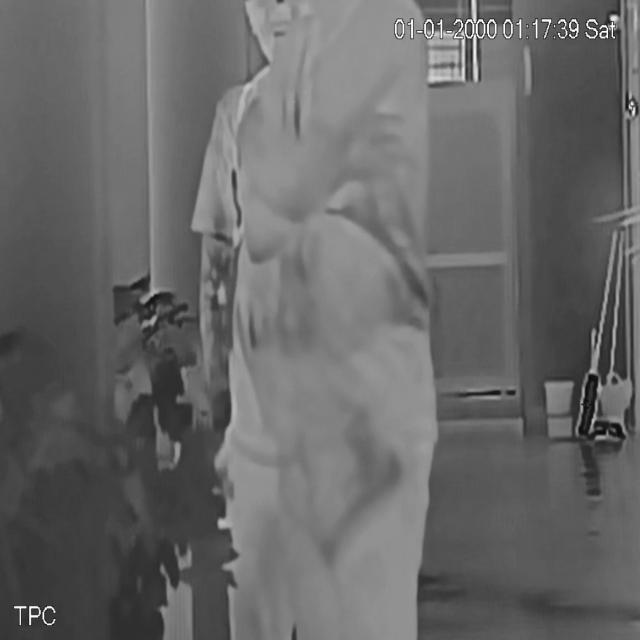Weapon: (300, 397, 416, 568)
